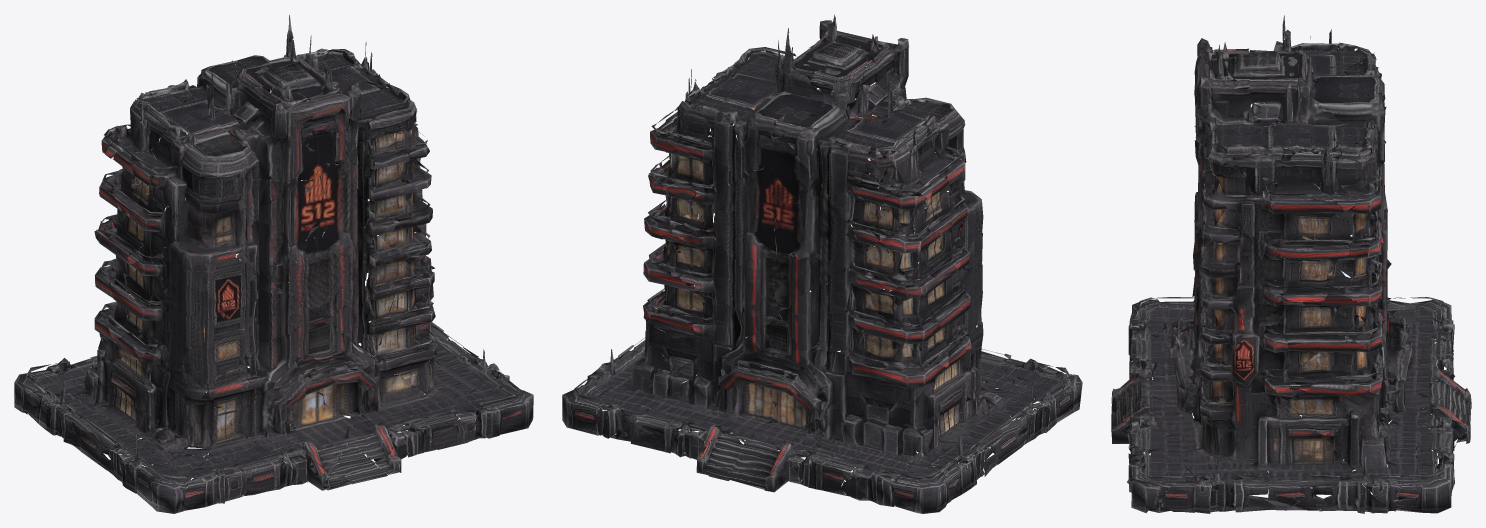
Rendered from neonCitadel_LOD1.glb.
The picture shows the model from 3 angles, left to right: view 1: azimuth 30°, elevation 25°; view 2: azimuth 150°, elevation 25°; view 3: azimuth 270°, elevation 25°; orthographic projection. The views are drawn at different scales.
Parts seen in each view (by area): view 1: Mesh_0.007; view 2: Mesh_0.007; view 3: Mesh_0.007.
Part boxes in pixels (left/top/right/bottom): Mesh_0.007: left=14, top=15, right=533, bottom=513; Mesh_0.007: left=562, top=14, right=1082, bottom=513; Mesh_0.007: left=1111, top=15, right=1471, bottom=513.
Bounding box in the file's own units: 1.9 × 1.88 × 1.53.
Materials: 1 (1 with a texture image).
